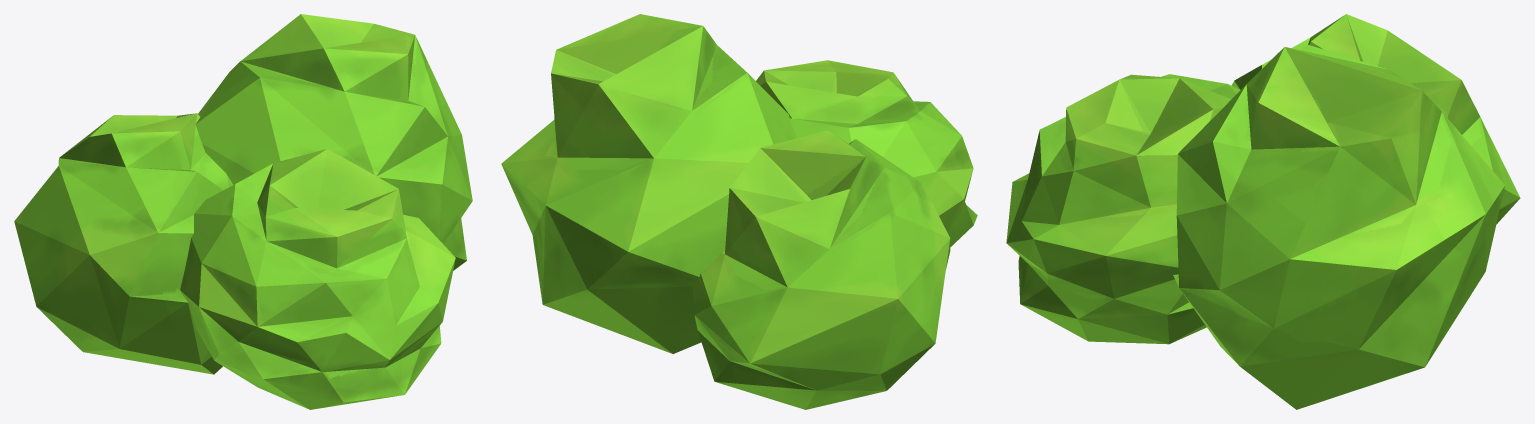
The model's file is Plant_04.fbx.
The picture shows the model from 3 angles, left to right: view 1: azimuth 30°, elevation 25°; view 2: azimuth 150°, elevation 25°; view 3: azimuth 270°, elevation 25°; orthographic projection. The views are drawn at different scales.
Parts seen in each view (by area): view 1: Plant_04; view 2: Plant_04; view 3: Plant_04.
Boxes of the visible parts, x1=… form: Plant_04: x1=14, y1=14, x2=472, y2=409; Plant_04: x1=501, y1=14, x2=977, y2=409; Plant_04: x1=1006, y1=14, x2=1520, y2=409.
Bounding box in the file's own units: 473 × 342 × 475.
Materials: 1 (1 with a texture image).
